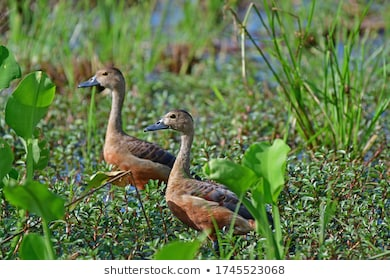duck: (143, 113, 277, 244), (75, 57, 149, 197)
